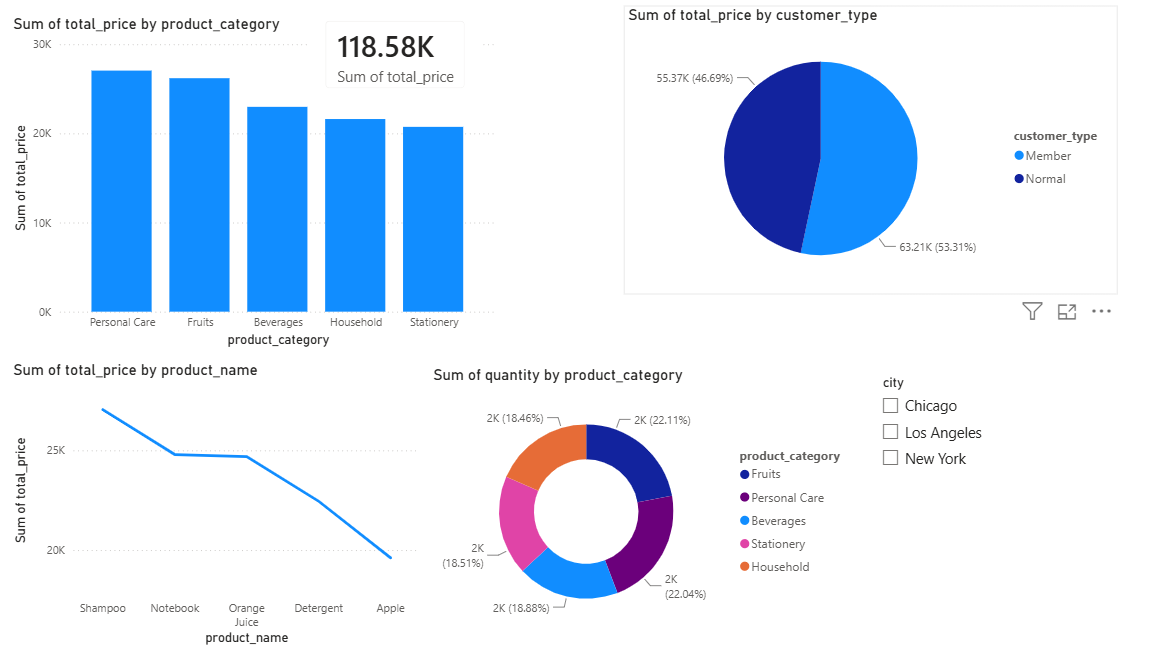

Layout of this report page (visuals, bound fields, positions):
{"tool":"powerbi","page":{"name":"Page 1","canvas":[1280,720],"ordinal":0},"visuals":[{"type":"clusteredColumnChart","fields":{"Category":["sales (2).product_category"],"Y":["Sum(sales (2).total_price)"]},"box":[9.6,23.3,540.7,370.5],"z":0},{"type":"cardVisual","fields":{"Data":["Sum(sales (2).total_price)"]},"box":[340.3,13.7,188,108.4],"z":1000},{"type":"pieChart","fields":{"Category":["sales (2).customer_type"],"Y":["Sum(sales (2).total_price)"]},"box":[684.7,13.7,542,317],"z":2000},{"type":"lineChart","fields":{"Category":["sales (2).product_name"],"Y":["Sum(sales (2).total_price)"]},"box":[9.6,403.4,461.1,317],"z":3000},{"type":"donutChart","fields":{"Category":["sales (2).product_category"],"Y":["Sum(sales (2).quantity)"]},"box":[470.7,408.9,472,301.9],"z":4000},{"type":"slicer","fields":{"Values":["sales (2).city"]},"box":[956.4,414.4,323.8,306],"z":5000}]}

Visuals, with their boxes in screenshot pixels (x1, y1, x2, y2), scaled from the page's 1280x720 canvas onto the 1162x645 screenshot:
clusteredColumnChart - sales (2).product_category x Sum(sales (2).total_price): Rect(9, 21, 500, 353)
cardVisual - Sum(sales (2).total_price): Rect(309, 12, 480, 109)
pieChart - sales (2).customer_type x Sum(sales (2).total_price): Rect(622, 12, 1114, 296)
lineChart - sales (2).product_name x Sum(sales (2).total_price): Rect(9, 361, 427, 644)
donutChart - sales (2).product_category x Sum(sales (2).quantity): Rect(427, 366, 856, 637)
slicer - sales (2).city: Rect(868, 371, 1161, 644)
